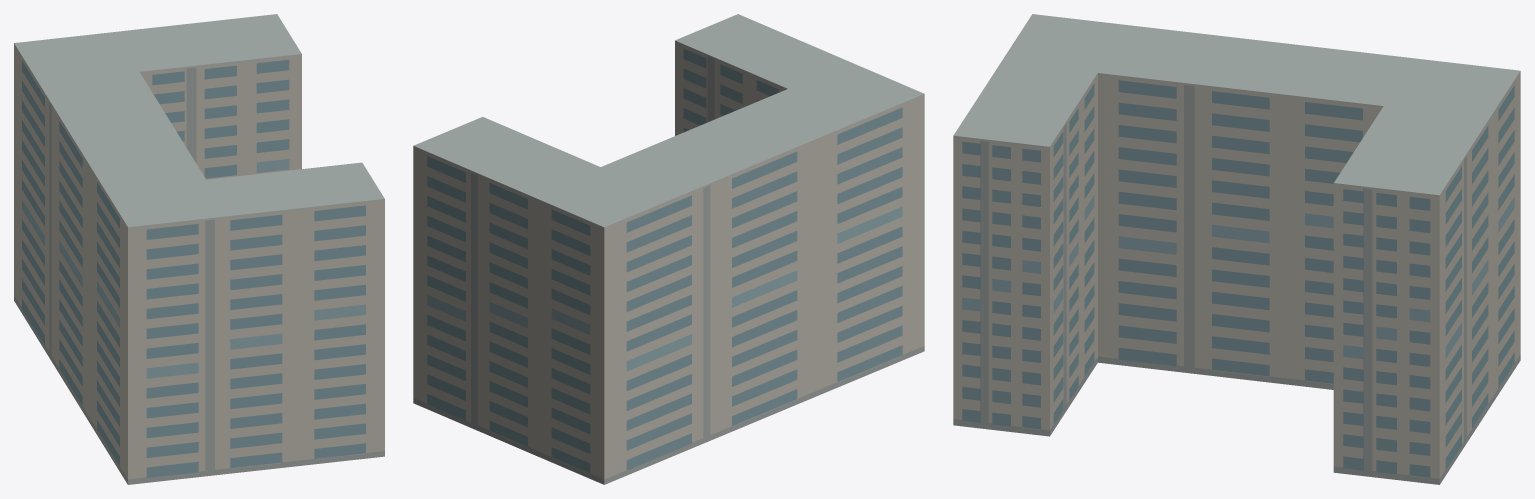
File: residential-8eda52f6-8602-43ff-8bd8-b4dbfada0aac.glb
3 views of the same model, side by side, from view 1: azimuth 30°, elevation 25°; view 2: azimuth 150°, elevation 25°; view 3: azimuth 270°, elevation 25° (orthographic). The views are drawn at different scales.
Parts seen in each view (by area): view 1: residential-8eda52f6-8602-43ff-8bd8-b4dbfada0aac.tmp; view 2: residential-8eda52f6-8602-43ff-8bd8-b4dbfada0aac.tmp; view 3: residential-8eda52f6-8602-43ff-8bd8-b4dbfada0aac.tmp.
Boxes of the visible parts, x1,y1,x2,y2 form: residential-8eda52f6-8602-43ff-8bd8-b4dbfada0aac.tmp: (14, 14, 384, 484); residential-8eda52f6-8602-43ff-8bd8-b4dbfada0aac.tmp: (413, 14, 924, 484); residential-8eda52f6-8602-43ff-8bd8-b4dbfada0aac.tmp: (953, 14, 1520, 484).
Bounding box in the file's own units: 45.63 × 34 × 60.35.
